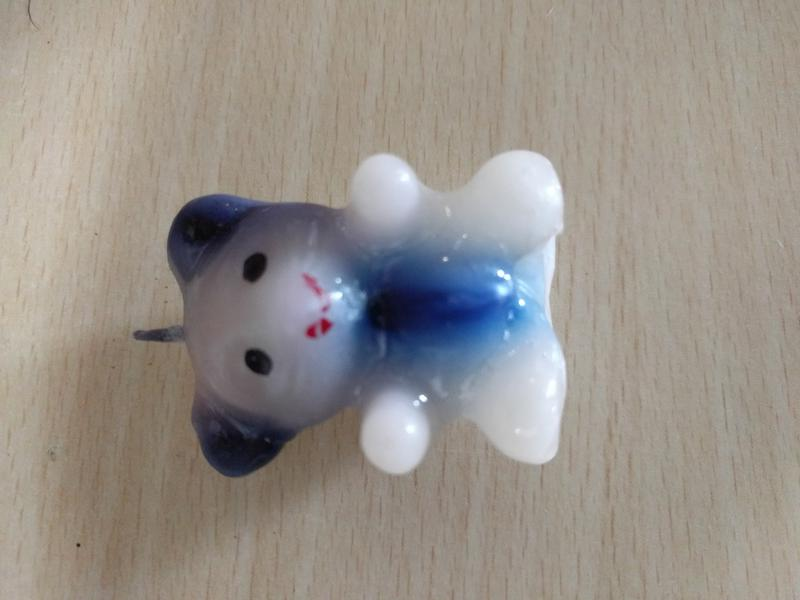doll: (109, 121, 615, 544)
